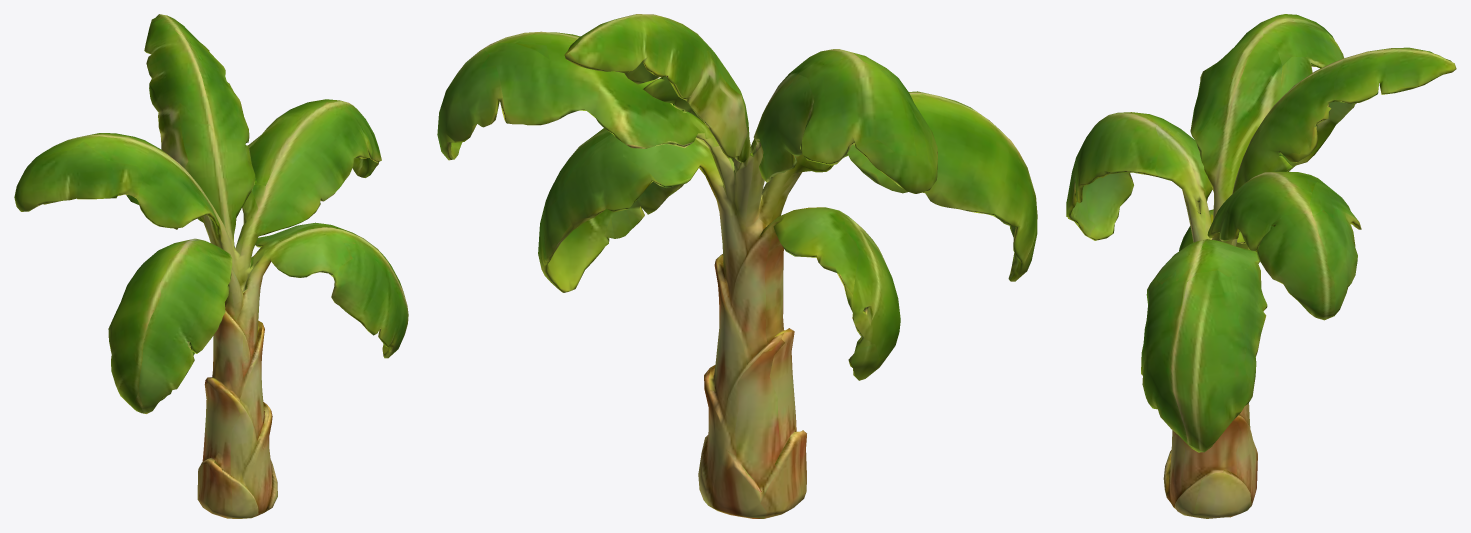
File: banana.glb
3 views of the same model, side by side, from view 1: azimuth 30°, elevation 25°; view 2: azimuth 150°, elevation 25°; view 3: azimuth 270°, elevation 25° (orthographic). The views are drawn at different scales.
Visible parts, largest first — view 1: textured_mesh.obj; view 2: textured_mesh.obj; view 3: textured_mesh.obj.
Boxes of the visible parts, bbox=[...] form: textured_mesh.obj: bbox=[14, 14, 408, 518]; textured_mesh.obj: bbox=[437, 14, 1037, 518]; textured_mesh.obj: bbox=[1066, 14, 1456, 518].
Size of what is drawn, in the model's own units: 3.01 by 3.3 by 2.51.
1 material, 1 textured.
